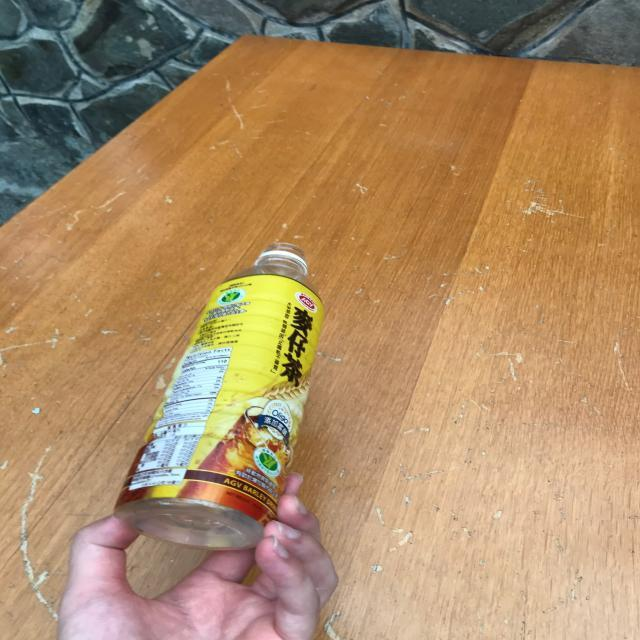bottle: (114, 244, 325, 551)
